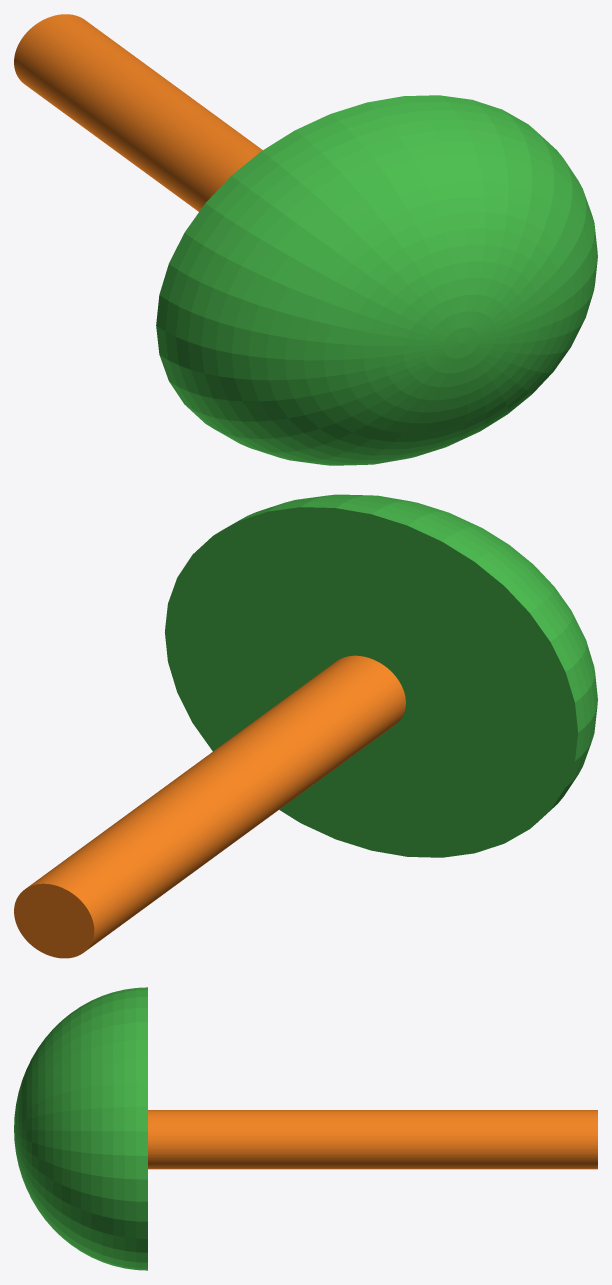
The model's file is littletree.obj.
3 renders of one model, top to bottom at view 1: azimuth 30°, elevation 25°; view 2: azimuth 150°, elevation 25°; view 3: azimuth 270°, elevation 25°, orthographic. The views are drawn at different scales.
Parts seen in each view (by area): view 1: obj_1, obj_0; view 2: obj_1, obj_0; view 3: obj_1, obj_0.
Part boxes in pixels (<box>): obj_1: <box>156,95,597,465</box>; obj_0: <box>14,14,262,211</box>; obj_1: <box>165,494,597,857</box>; obj_0: <box>14,655,405,958</box>; obj_1: <box>14,987,147,1270</box>; obj_0: <box>148,1110,597,1169</box>.
Bounding box in the file's own units: 36 × 28 × 61.
